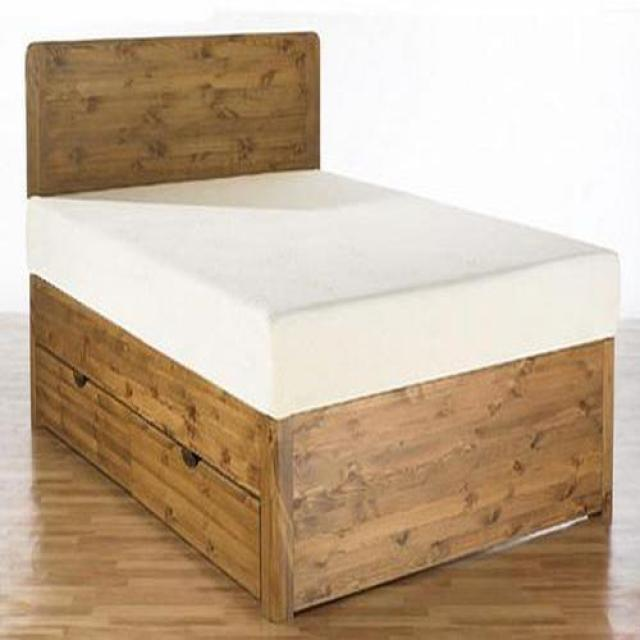bed: (24, 31, 621, 625)
